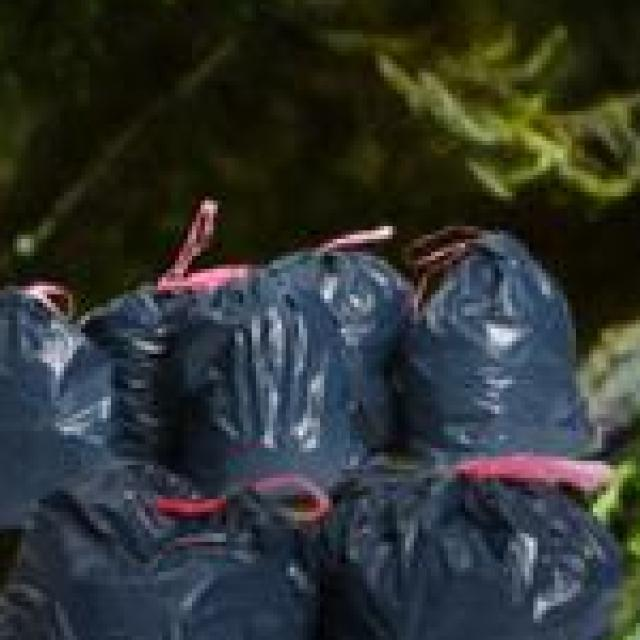Trashbag: (290, 456, 628, 640), (0, 464, 323, 640), (179, 246, 371, 486), (417, 233, 594, 464), (0, 272, 113, 519)
